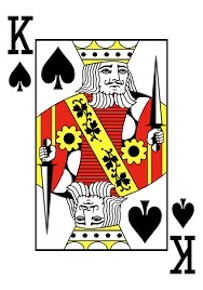KingOfSpades: (3, 4, 203, 284)
